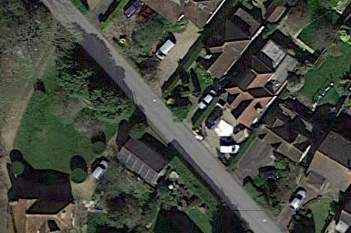tree: (87, 75, 141, 125), (124, 119, 151, 144)
